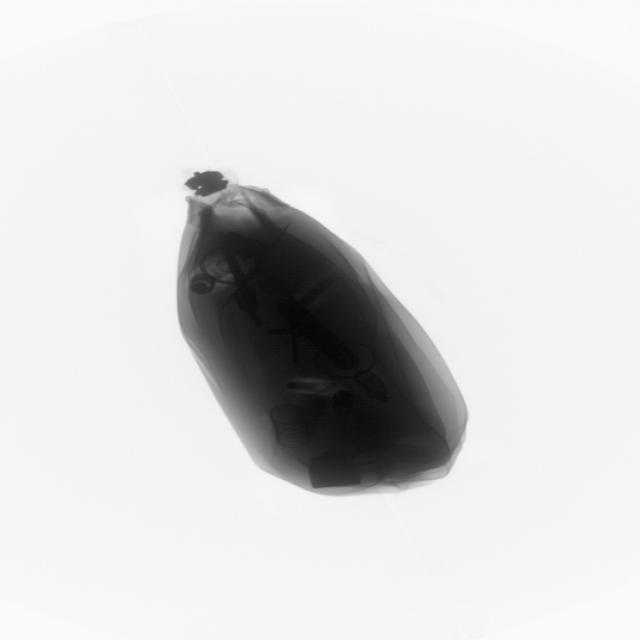SHURIKEN: (213, 232, 283, 326)
